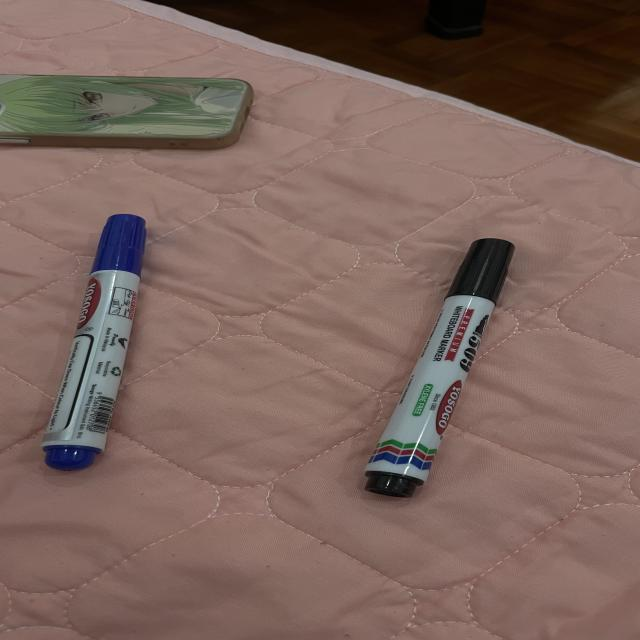marker: (365, 238, 514, 497), (42, 214, 146, 471)
